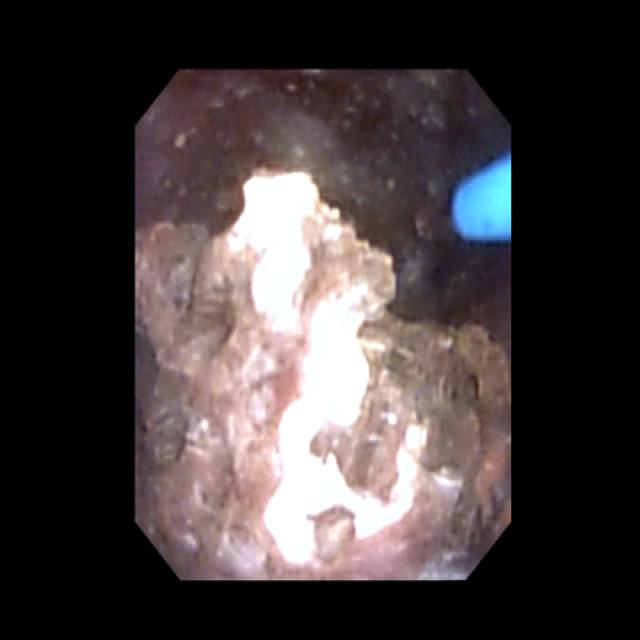fiber: (458, 158, 507, 238)
stone: (135, 169, 504, 574)
